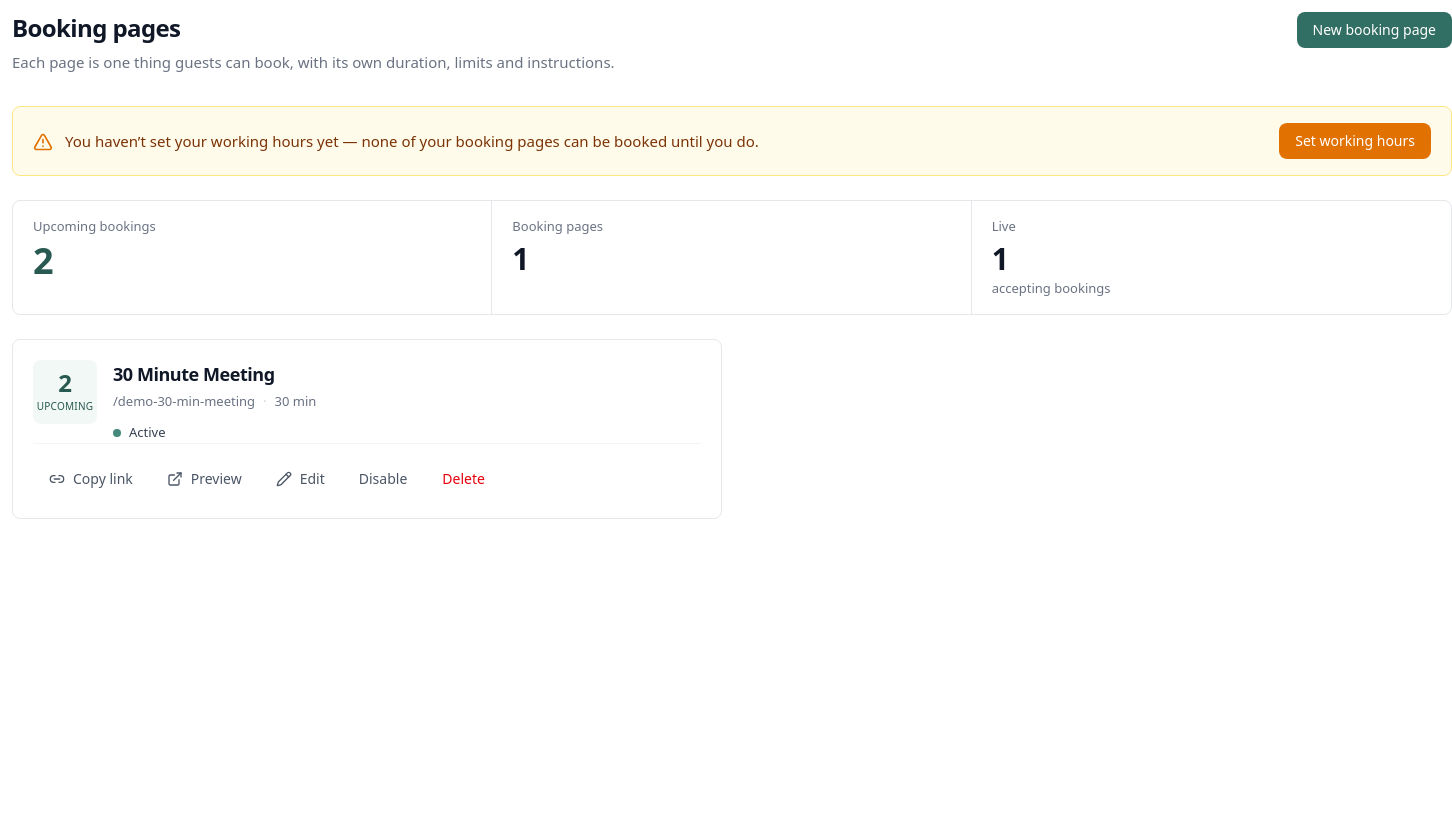
DashboardHomePage › explains a 409 when deleting a page that still has bookings
Click the button "Delete". click: (464, 479)
box: x1=425 y1=460 x2=502 y2=498
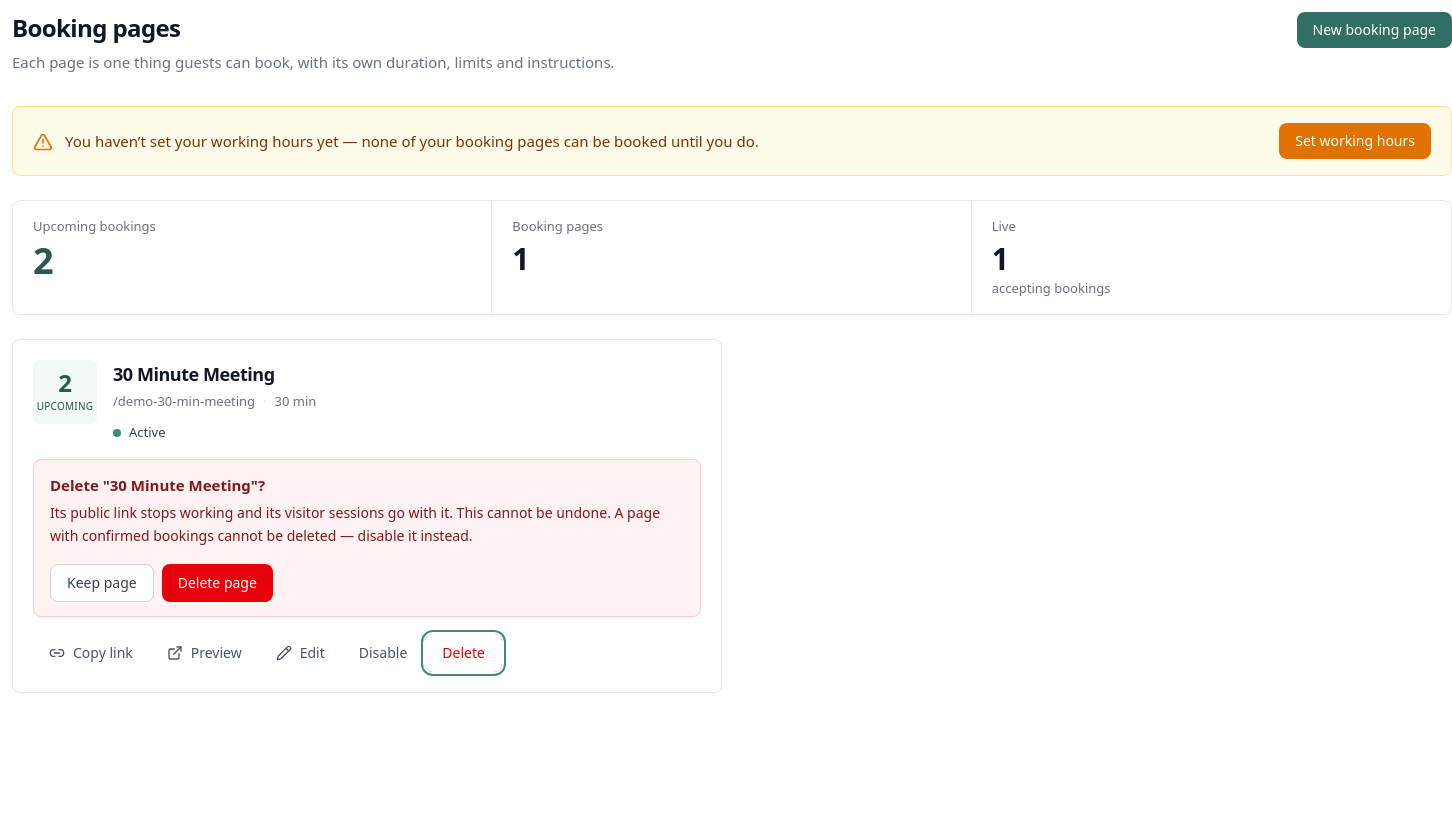
Click the button "Delete page". click: (217, 583)
box: x1=162 y1=564 x2=273 y2=602
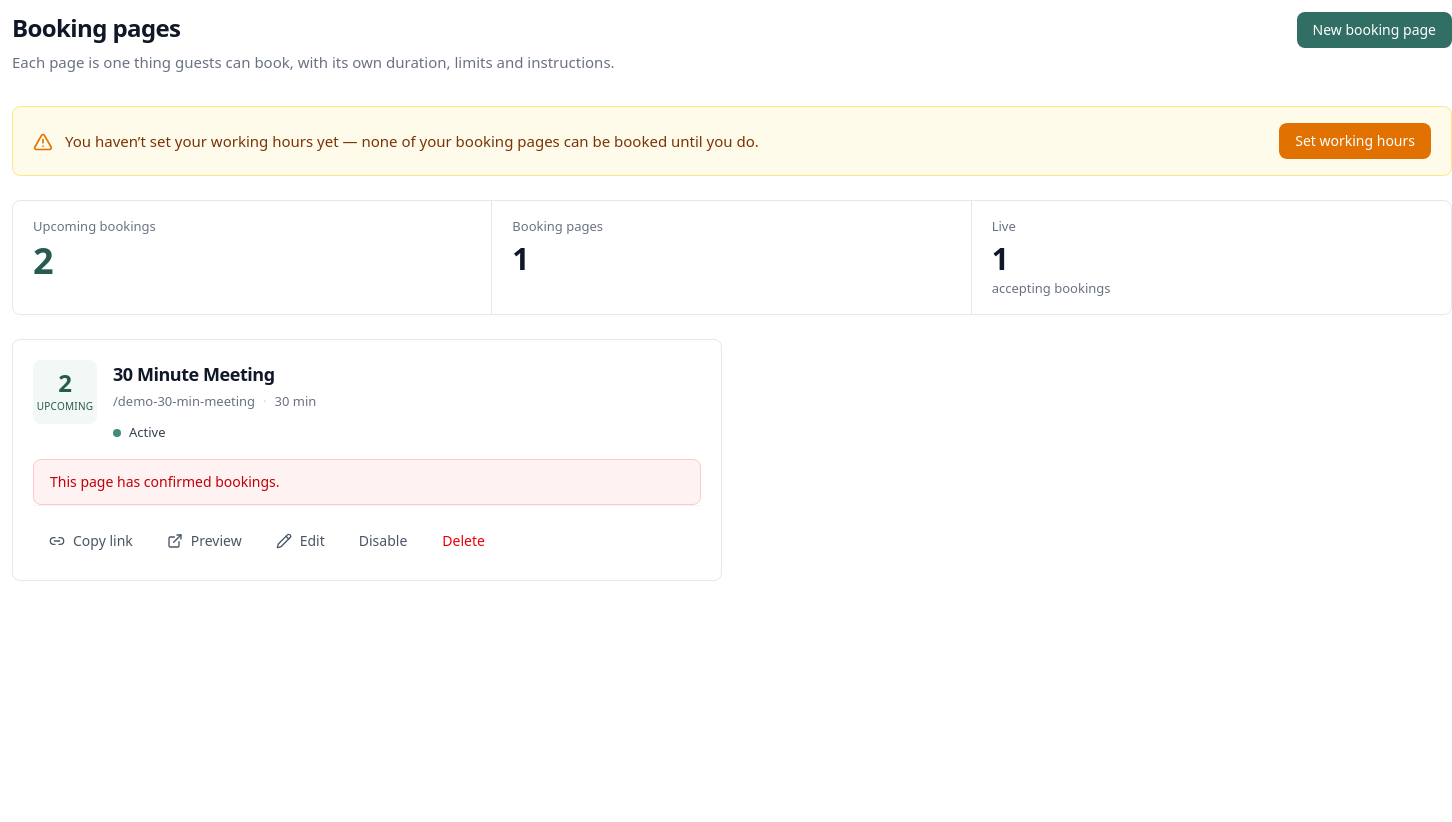
Now the text "This page has confirmed bookings." is shown, box x1=33 y1=459 x2=701 y2=505
